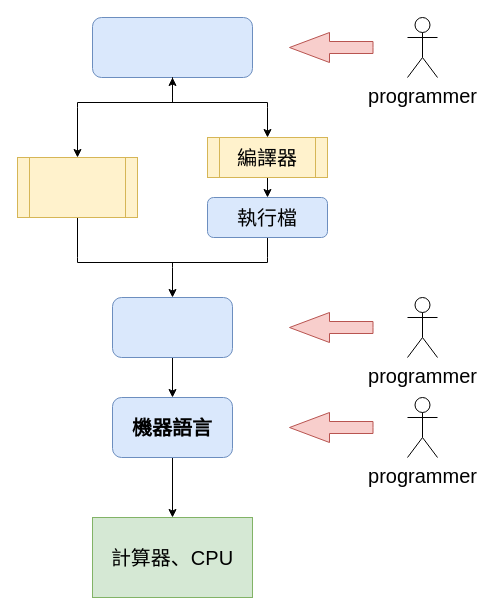
Image size: 494x615. Some labels were removed from this diagram. The shapes that lost their labels are listed below. From the top down, each one's box as (x1, y1, x2, y2) in pixels, then its label:
(92, 16, 252, 78): 高階語言
(16, 156, 138, 218): 直譯器
(112, 296, 232, 358): 組合語言
